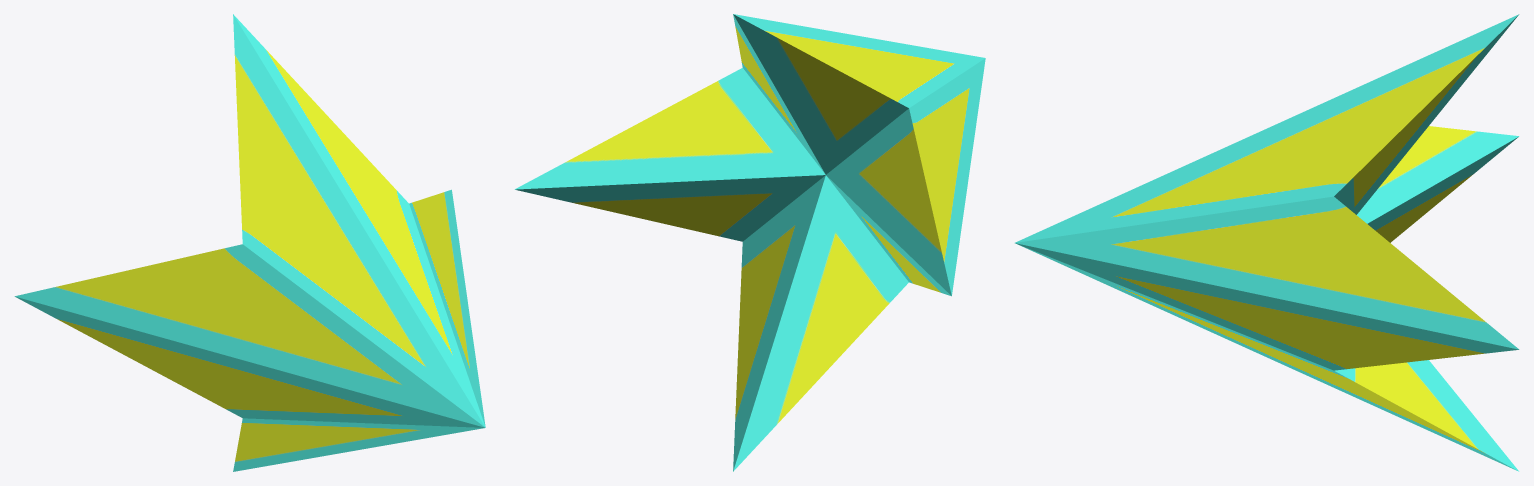
File: PlayerBullet.obj
3 views of the same model, side by side, from view 1: azimuth 30°, elevation 25°; view 2: azimuth 150°, elevation 25°; view 3: azimuth 270°, elevation 25° (orthographic).
Parts seen in each view (by area): view 1: 円錐; view 2: 円錐; view 3: 円錐.
Boxes of the visible parts, <box> form: 円錐: <box>14,14,485,471</box>; 円錐: <box>514,14,985,471</box>; 円錐: <box>1015,14,1519,471</box>.
Bounding box in the file's own units: 2 × 2 × 2.
Materials: 1 (1 with a texture image).
